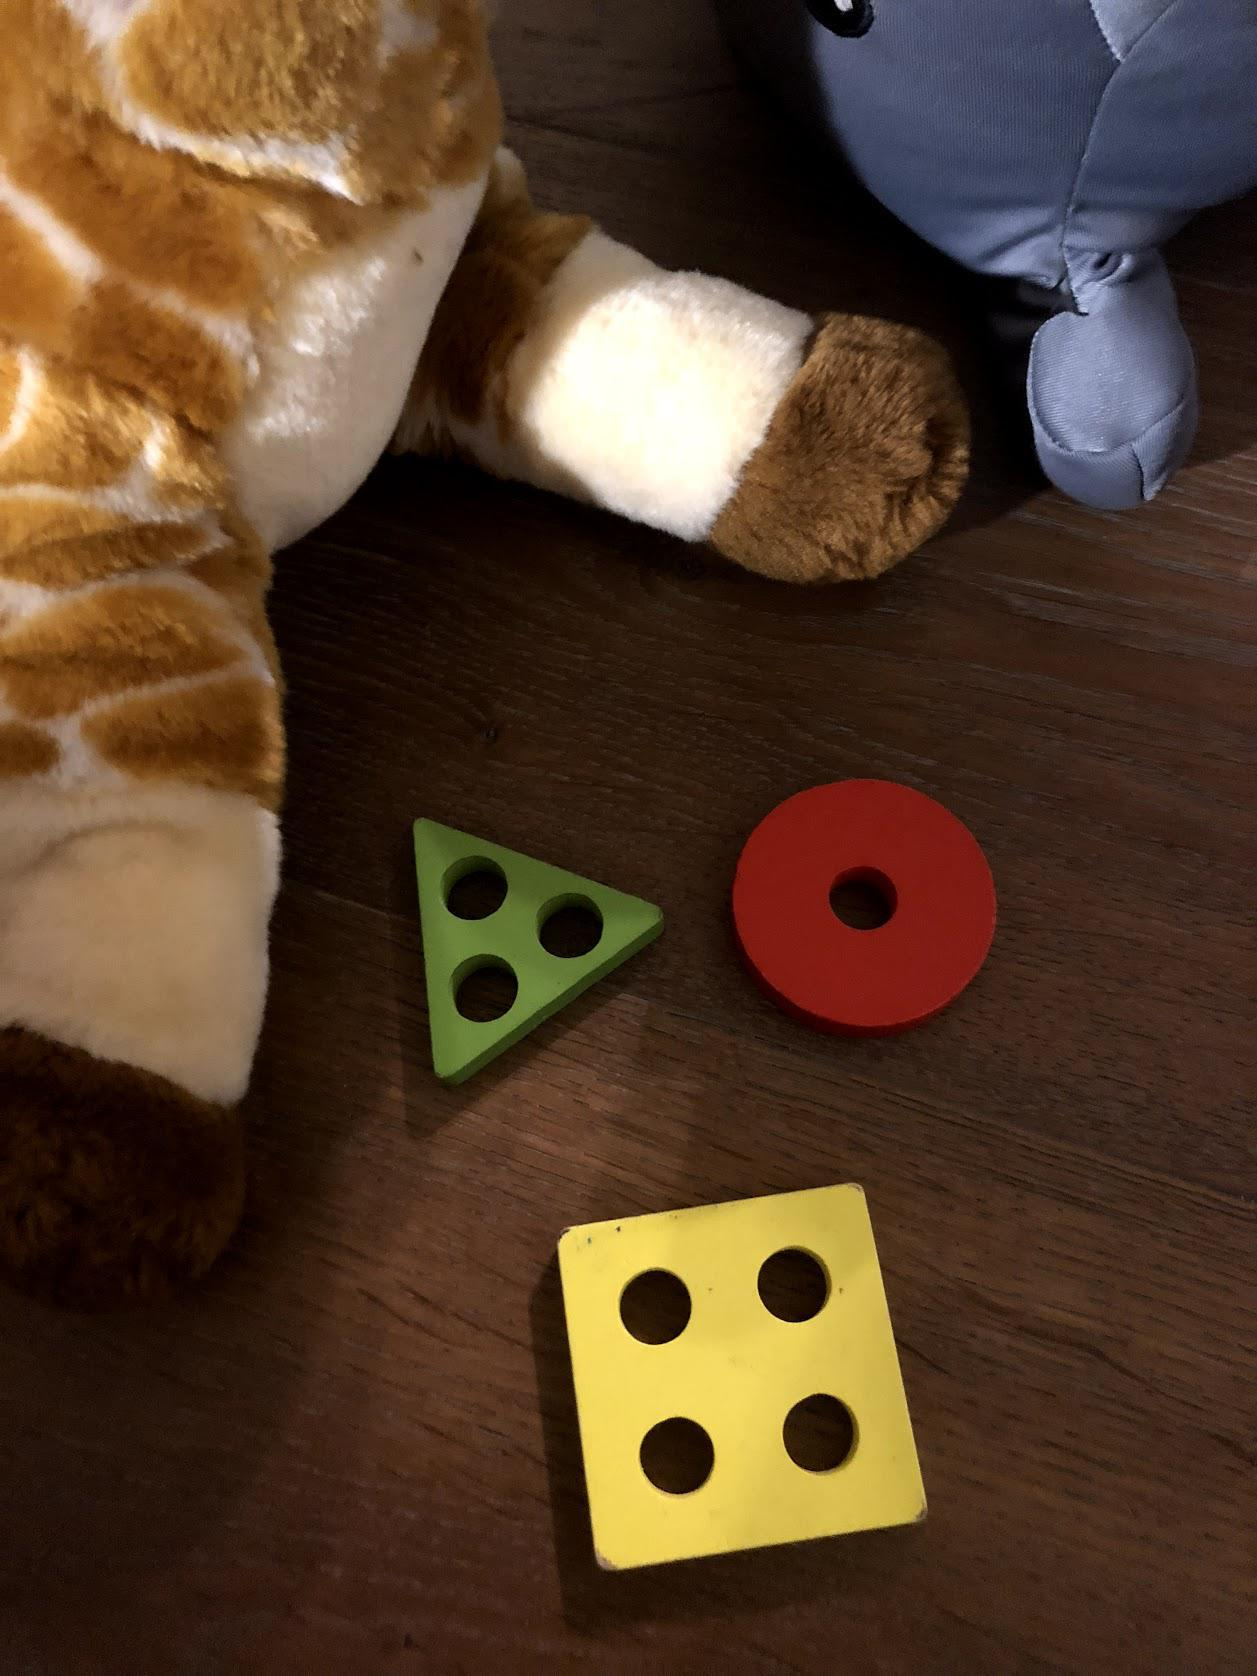Circle: (726, 775, 1002, 1036)
Square: (551, 1182, 934, 1576)
Triangle: (413, 813, 665, 1094)
